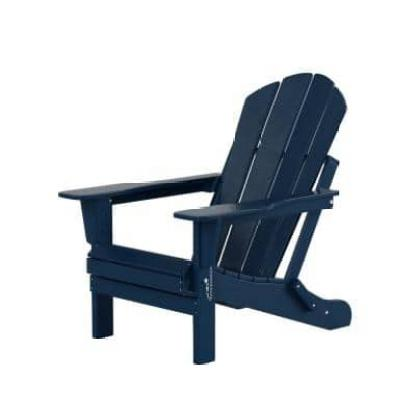chair: (58, 66, 360, 363)
